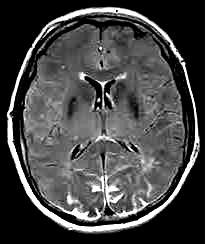Normal_Brain: (10, 1, 206, 244)
